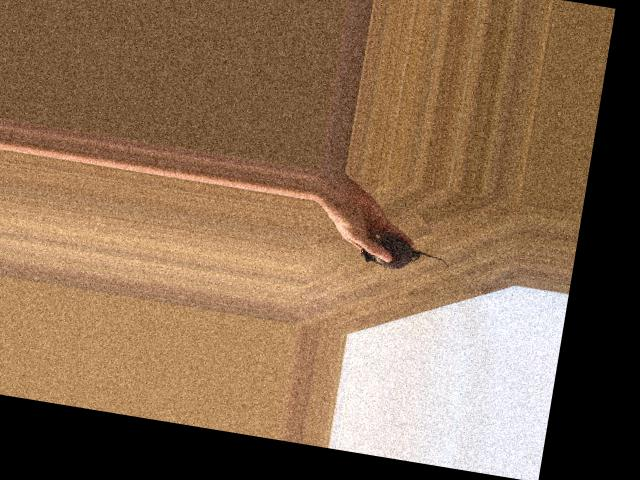beet: (359, 231, 453, 277)
